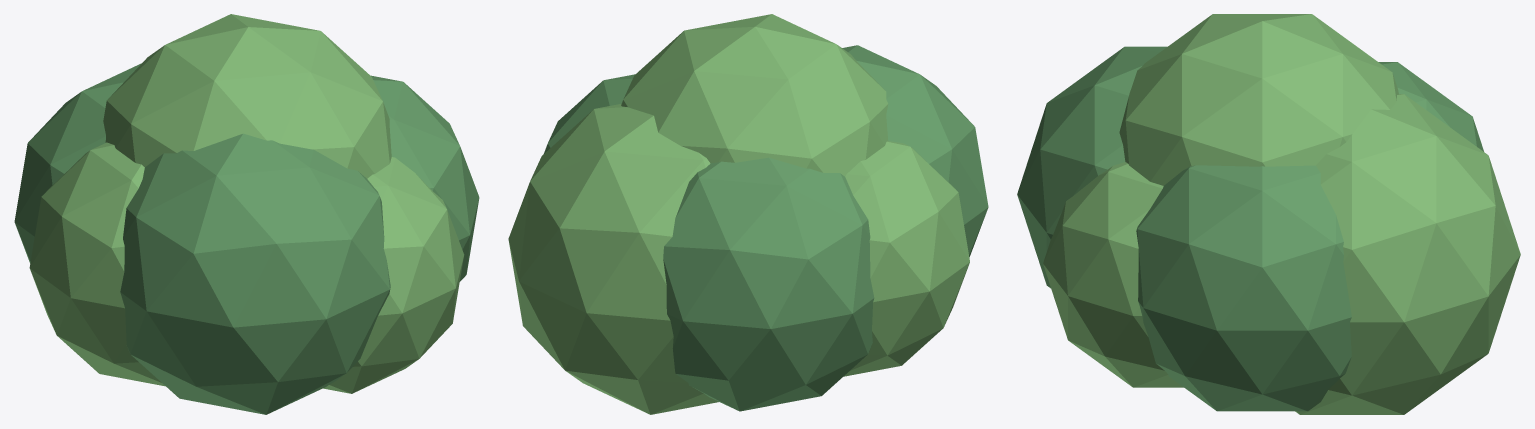
File: HOB_Bush_Round.fbx
3 views of the same model, side by side, from view 1: azimuth 30°, elevation 25°; view 2: azimuth 150°, elevation 25°; view 3: azimuth 270°, elevation 25° (orthographic). The views are drawn at different scales.
Parts seen in each view (by area): view 1: HOB_Bush_Round; view 2: HOB_Bush_Round; view 3: HOB_Bush_Round.
Boxes of the visible parts, <box> form: HOB_Bush_Round: <box>14,14,479,414</box>; HOB_Bush_Round: <box>508,14,988,414</box>; HOB_Bush_Round: <box>1017,14,1520,414</box>.
Size of the model in its own units: 124 by 105 by 132.
